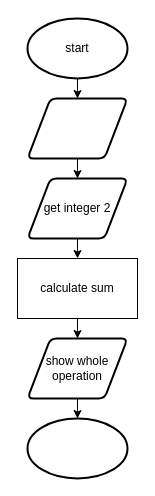
This 155x496 diagram has some shape labels left out. Here are the shapes that lost their labels. From the top down, the centre of each, then its label:
point (77, 128): get integer 1
point (77, 448): stop
